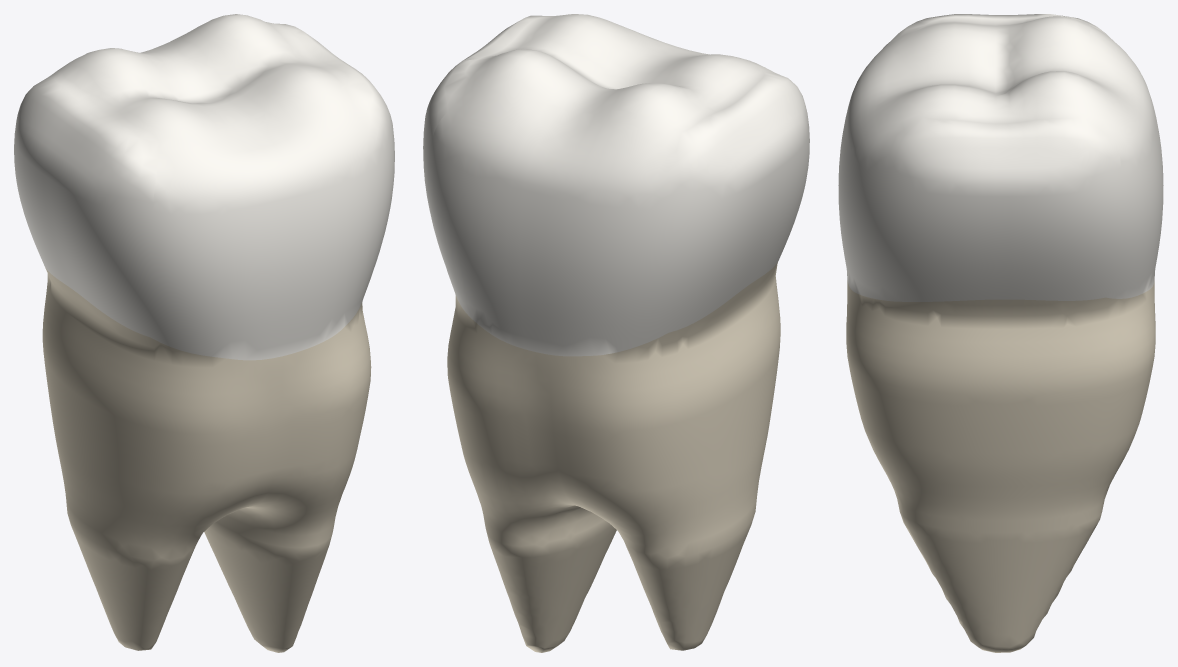
The picture shows the model from 3 angles, left to right: view 1: azimuth 30°, elevation 25°; view 2: azimuth 150°, elevation 25°; view 3: azimuth 270°, elevation 25°; orthographic projection. The views are drawn at different scales.
Visible parts, largest first — view 1: root, V, D, O, M; view 2: root, L, D, O, M, V; view 3: root, M, O, L, V, D.
Boxes of the visible parts, left/top/right/bottom form: root: left=42, top=265, right=371, bottom=652; V: left=150, top=89, right=389, bottom=360; D: left=14, top=66, right=159, bottom=336; O: left=54, top=14, right=350, bottom=141; M: left=275, top=23, right=394, bottom=237; root: left=447, top=262, right=780, bottom=652; L: left=428, top=77, right=672, bottom=356; D: left=662, top=65, right=809, bottom=332; O: left=465, top=14, right=764, bottom=131; M: left=423, top=15, right=552, bottom=230; V: left=593, top=16, right=772, bottom=71; root: left=846, top=280, right=1155, bottom=652; M: left=876, top=103, right=1124, bottom=301; O: left=912, top=16, right=1092, bottom=123; L: left=1087, top=25, right=1163, bottom=298; V: left=838, top=32, right=915, bottom=301; D: left=890, top=14, right=1113, bottom=41.
Size of the model in its own units: 10 by 18.49 by 9.5.
